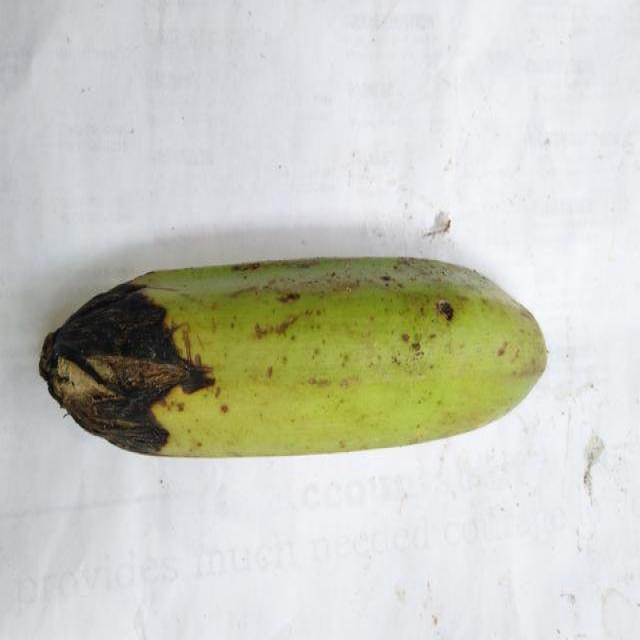Podre: (50, 258, 564, 460)
